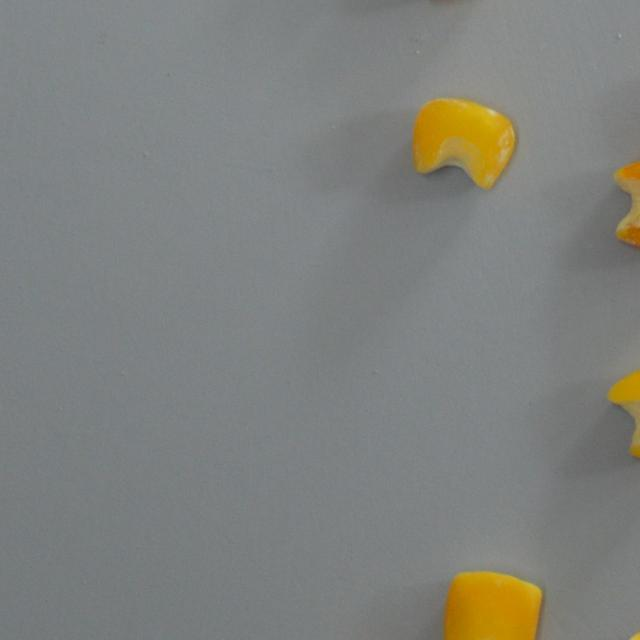no_canjicado: (444, 570, 542, 640)
pelicula: (412, 96, 517, 189), (608, 361, 640, 464), (612, 152, 640, 252)
